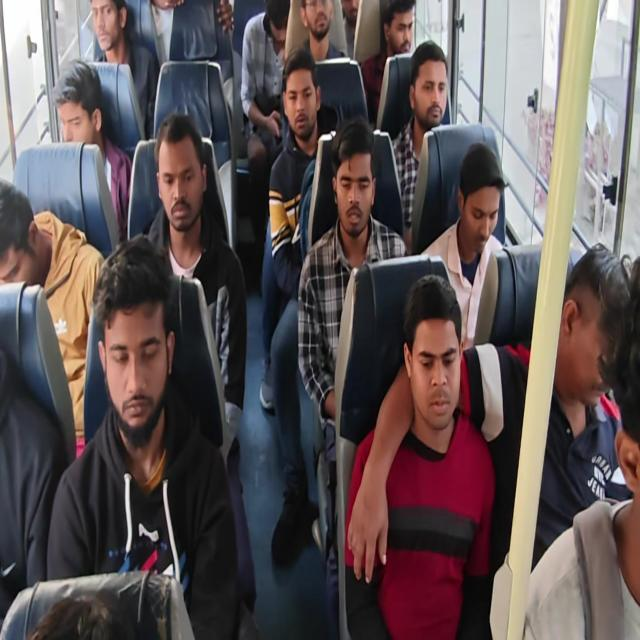person: (91, 233, 176, 454), (556, 243, 626, 394), (402, 273, 466, 438), (327, 113, 382, 257), (34, 565, 149, 633), (46, 56, 116, 153), (0, 158, 45, 295), (158, 110, 205, 235), (452, 143, 500, 253), (620, 261, 640, 500), (271, 51, 325, 132), (409, 38, 449, 119), (84, 4, 130, 53), (383, 0, 419, 56), (261, 1, 298, 50), (302, 0, 340, 46), (340, 0, 364, 30)
